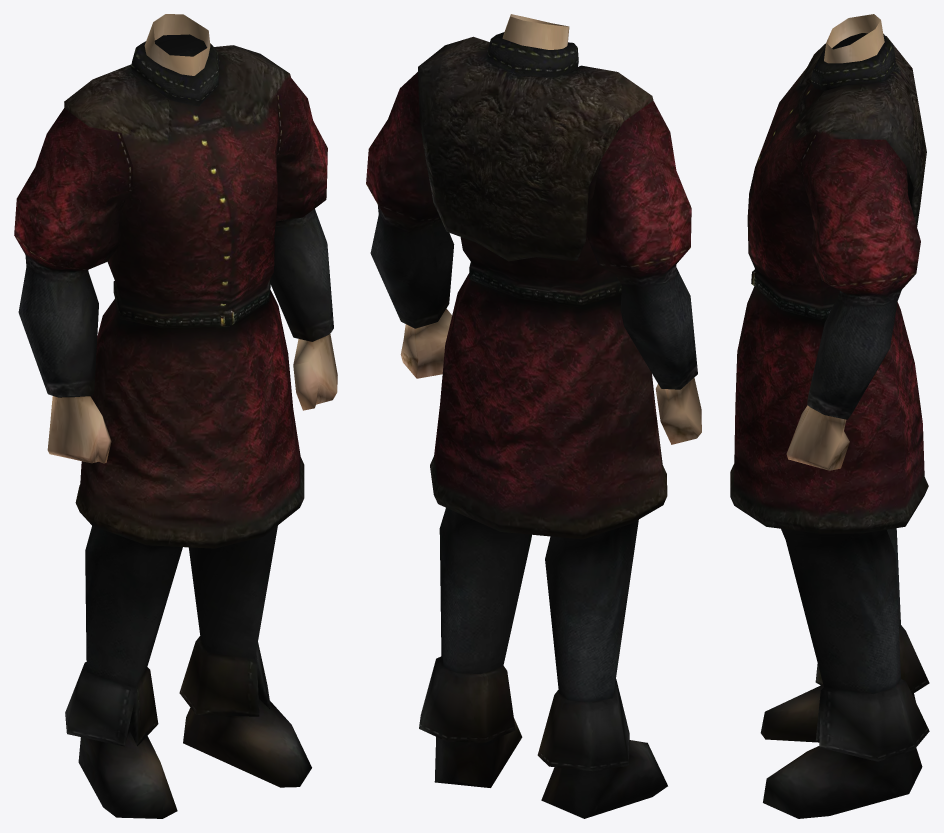
The model's file is KM_RM_NOHAT_03.glb.
The picture shows the model from 3 angles, left to right: view 1: azimuth 30°, elevation 25°; view 2: azimuth 150°, elevation 25°; view 3: azimuth 270°, elevation 25°; orthographic projection. The views are drawn at different scales.
Parts seen in each view (by area): view 1: KM_RM_NOHAT_03; view 2: KM_RM_NOHAT_03; view 3: KM_RM_NOHAT_03.
Part boxes in pixels (x1,y1,x2,y2): KM_RM_NOHAT_03: (14,14,337,818); KM_RM_NOHAT_03: (366,14,701,818); KM_RM_NOHAT_03: (730,14,929,818).
Bounding box in the file's own units: 0.7034 × 1.7 × 0.4101.
2 materials, 2 textured.
